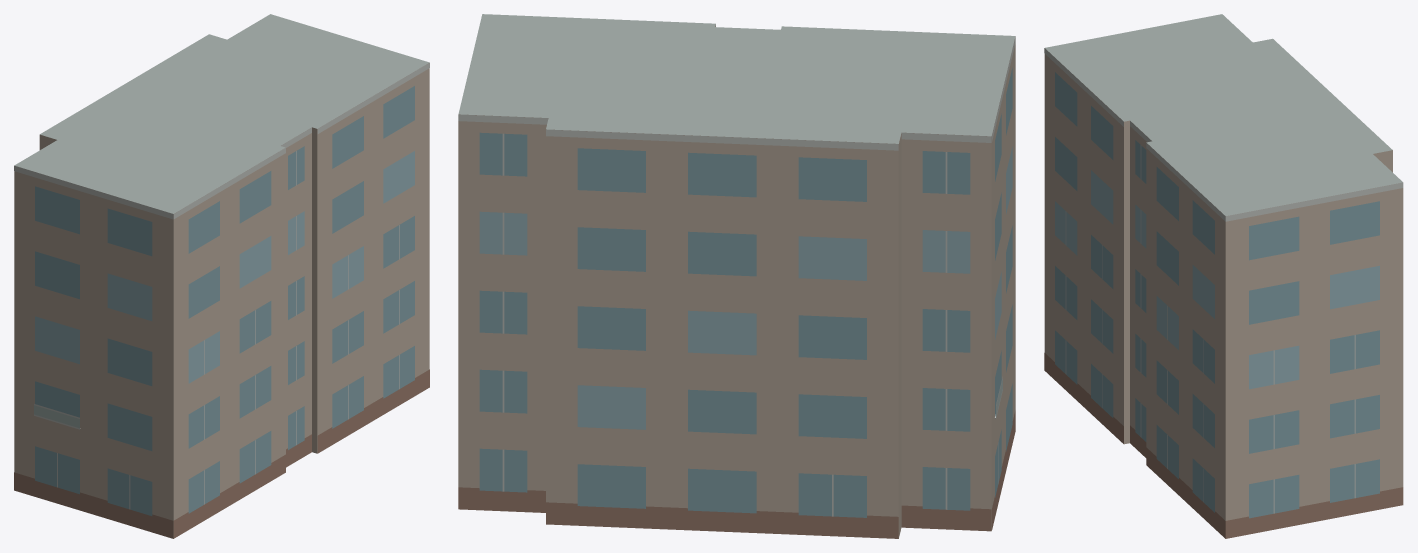
The model's file is survey-upis-33001454.glb.
3 views of the same model, side by side, from view 1: azimuth 30°, elevation 25°; view 2: azimuth 150°, elevation 25°; view 3: azimuth 270°, elevation 25° (orthographic). The views are drawn at different scales.
Parts seen in each view (by area): view 1: survey-upis-33001454.tmp; view 2: survey-upis-33001454.tmp; view 3: survey-upis-33001454.tmp.
Boxes of the visible parts, box(x1,y1,x2,y2) form: survey-upis-33001454.tmp: box(14, 14, 429, 538); survey-upis-33001454.tmp: box(458, 14, 1015, 538); survey-upis-33001454.tmp: box(1044, 14, 1403, 538).
Size of the model in its own units: 19.17 by 14.25 by 14.37.
